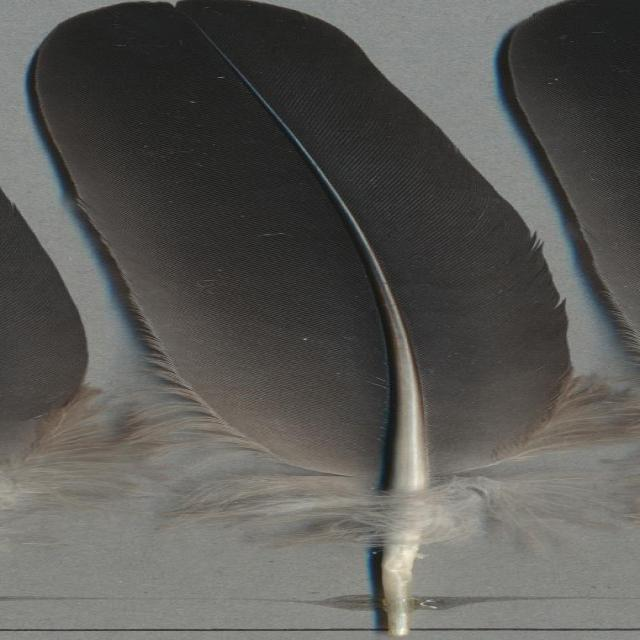feather: (20, 0, 640, 636)
